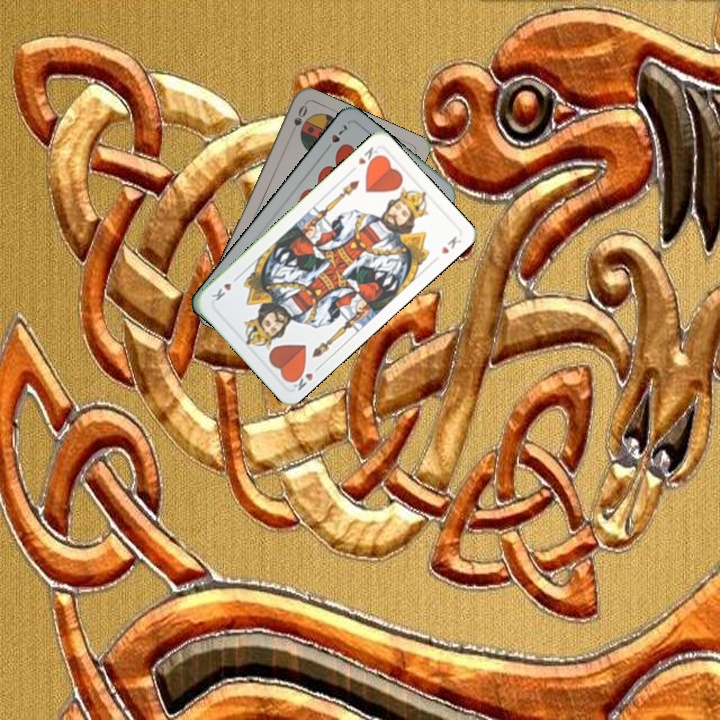H7: (321, 120, 350, 154)
HK: (286, 361, 323, 393), (354, 143, 383, 170)
SO: (286, 101, 310, 139)
